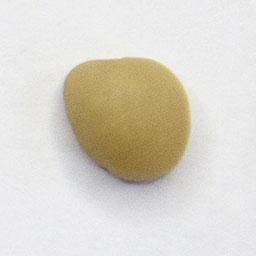defect: (57, 49, 198, 191)
